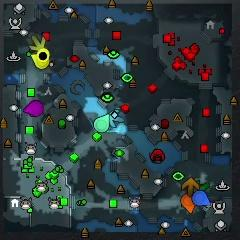p1: (192, 189, 211, 206)
p2: (94, 114, 110, 132)
p3: (24, 100, 44, 117)
p4: (30, 54, 48, 69)
p4Clone: (38, 49, 49, 62)
p5: (181, 194, 195, 213)
x2: (30, 36, 45, 50)
x3: (109, 109, 124, 128)
x4: (193, 179, 209, 191)
x5: (182, 177, 199, 197)
